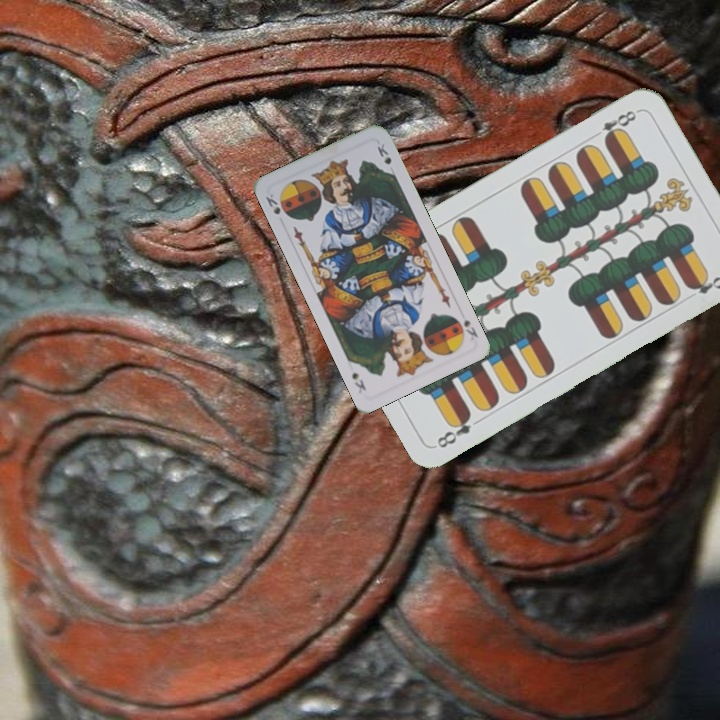E8: (587, 106, 641, 145), (432, 408, 474, 451)
SK: (459, 315, 481, 344), (261, 189, 283, 217)
